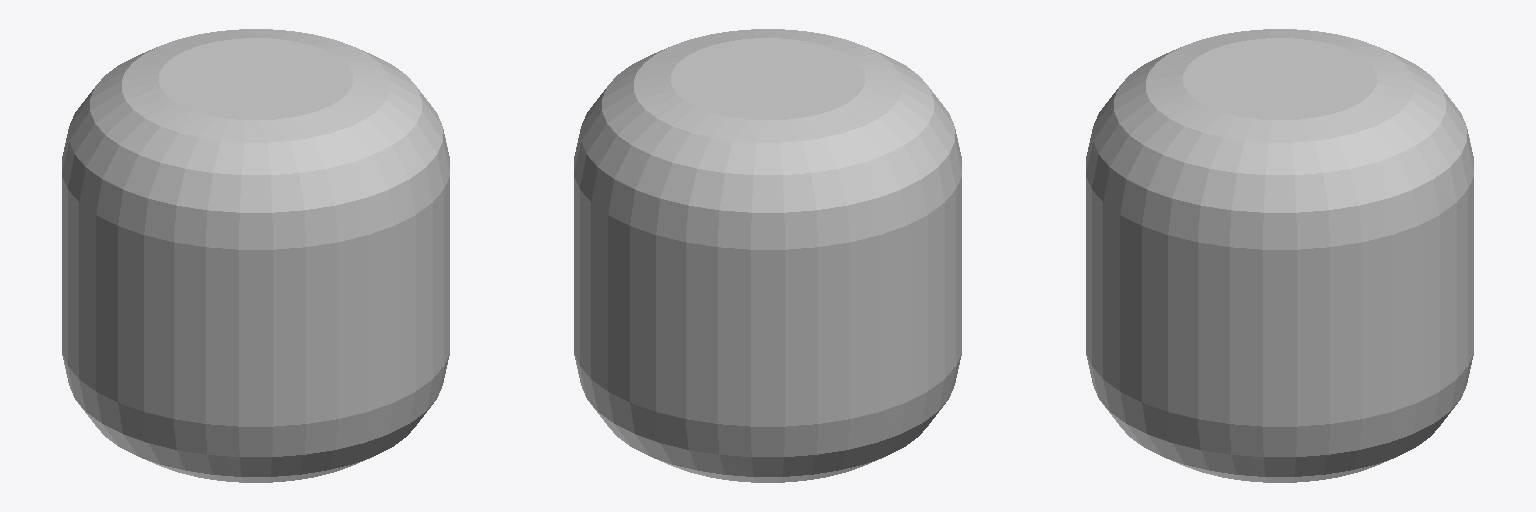
File: Head.obj
The picture shows the model from 3 angles: view 1: azimuth 30°, elevation 25°; view 2: azimuth 150°, elevation 25°; view 3: azimuth 270°, elevation 25°; orthographic projection.
Visible parts, largest first — view 1: Head_N00b7_N00b7.002; view 2: Head_N00b7_N00b7.002; view 3: Head_N00b7_N00b7.002.
Boxes of the visible parts, x1,y1,x2,y2 form: Head_N00b7_N00b7.002: [62, 29, 449, 482]; Head_N00b7_N00b7.002: [574, 29, 961, 482]; Head_N00b7_N00b7.002: [1086, 29, 1473, 482].
Size of the model in its own units: 1.2 by 1.2 by 1.2.